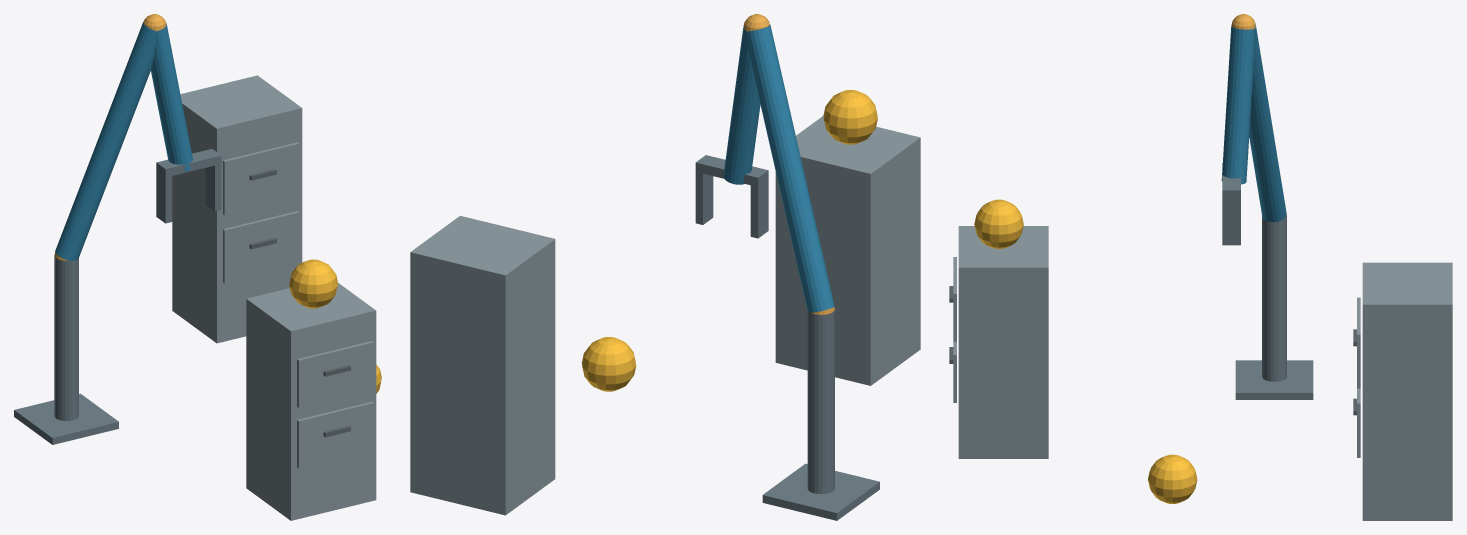
The picture shows the model from 3 angles, left to right: view 1: azimuth 30°, elevation 25°; view 2: azimuth 150°, elevation 25°; view 3: azimuth 270°, elevation 25°; orthographic projection. The views are drawn at different scales.
Visible parts, largest first — view 1: cabinet_1 body, cabinet_2 body, moving link 1, cabinet_2 drawer front.001, cabinet_2 drawer front, fixed post, cabinet_1 drawer front, cabinet_1 drawer front.001, moving link 2, pedestal, released ball_1, gripper bridge (+2 smaller); view 2: cabinet_2 body, cabinet_1 body, moving link 1, fixed post, pedestal, moving link 2, ball ball_2, released ball_1, gripper finger -1, gripper finger 1, gripper bridge; view 3: cabinet_2 body, cabinet_1 body, fixed post, moving link 2, moving link 1, pedestal, released ball_1, ball ball_2, gripper finger 1.
Part boxes in pixels (left/top/right/bottom): cabinet_1 body: left=246, top=283, right=376, bottom=520; cabinet_2 body: left=172, top=75, right=302, bottom=343; moving link 1: left=55, top=22, right=156, bottom=261; cabinet_2 drawer front.001: left=223, top=142, right=299, bottom=215; cabinet_2 drawer front: left=223, top=211, right=299, bottom=283; fixed post: left=54, top=255, right=78, bottom=420; cabinet_1 drawer front: left=297, top=401, right=373, bottom=468; cabinet_1 drawer front.001: left=297, top=341, right=373, bottom=407; moving link 2: left=151, top=23, right=192, bottom=171; pedestal: left=14, top=393, right=118, bottom=444; released ball_1: left=289, top=259, right=337, bottom=308; gripper bridge: left=156, top=149, right=221, bottom=177; cabinet_2 body: left=410, top=215, right=555, bottom=515; cabinet_1 body: left=775, top=116, right=920, bottom=385; moving link 1: left=746, top=24, right=834, bottom=312; fixed post: left=807, top=308, right=834, bottom=493; pedestal: left=762, top=463, right=879, bottom=520; moving link 2: left=723, top=26, right=760, bottom=184; ball ball_2: left=581, top=337, right=636, bottom=391; released ball_1: left=823, top=90, right=877, bottom=144; gripper finger -1: left=750, top=180, right=768, bottom=238; gripper finger 1: left=695, top=172, right=713, bottom=224; gripper bridge: left=695, top=155, right=768, bottom=186; cabinet_2 body: left=1362, top=262, right=1452, bottom=520; cabinet_1 body: left=958, top=226, right=1048, bottom=458; fixed post: left=1262, top=215, right=1286, bottom=381; moving link 2: left=1221, top=26, right=1255, bottom=184; moving link 1: left=1249, top=23, right=1286, bottom=222; pedestal: left=1235, top=360, right=1313, bottom=399; released ball_1: left=974, top=199, right=1023, bottom=248; ball ball_2: left=1148, top=454, right=1197, bottom=503; gripper finger 1: left=1222, top=198, right=1240, bottom=245.
Bounding box in the file's own units: 1.17 × 1.44 × 1.62.
